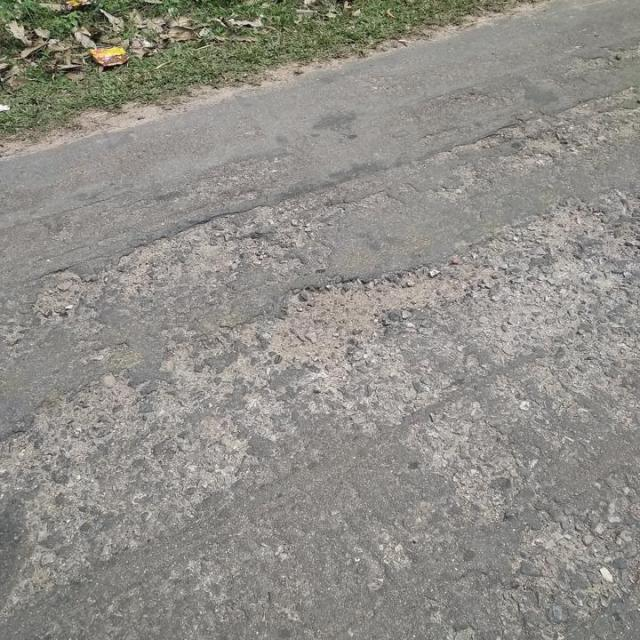pothole: (263, 262, 477, 358), (109, 204, 288, 288), (33, 268, 91, 324)
